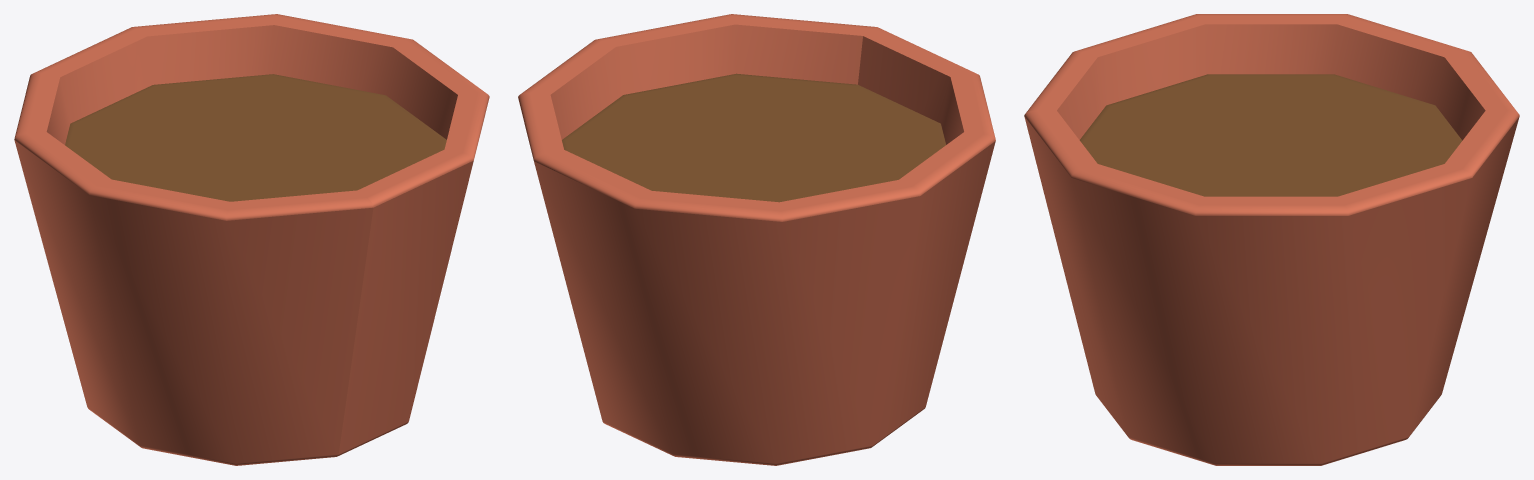
File: pot.glb
3 renders of one model, left to right at view 1: azimuth 30°, elevation 25°; view 2: azimuth 150°, elevation 25°; view 3: azimuth 270°, elevation 25°, orthographic.
Parts seen in each view (by area): view 1: cylinder, cylinder.3; view 2: cylinder, cylinder.3; view 3: cylinder, cylinder.3.
Part boxes in pixels (<box>): cylinder: <box>14,14,489,465</box>; cylinder.3: <box>65,74,446,201</box>; cylinder: <box>518,14,995,465</box>; cylinder.3: <box>562,73,945,202</box>; cylinder: <box>1024,14,1519,465</box>; cylinder.3: <box>1079,74,1462,196</box>.
Bounding box in the file's own units: 0.6163 × 0.4172 × 0.648.
